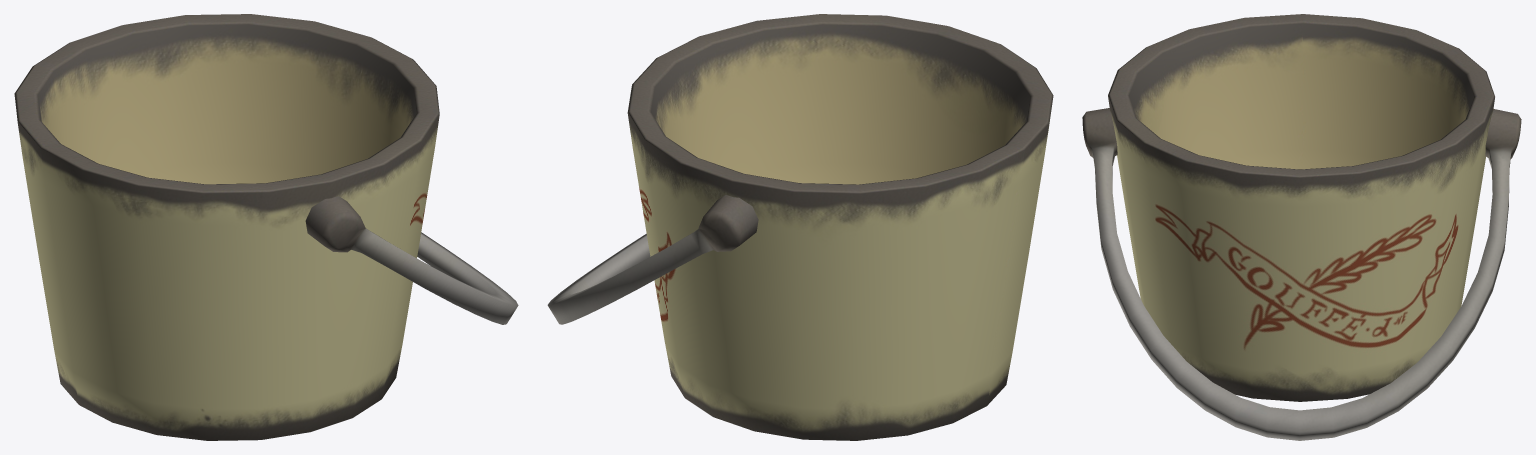
The model's file is balde_lechero_oxidado.glb.
The picture shows the model from 3 angles, left to right: view 1: azimuth 30°, elevation 25°; view 2: azimuth 150°, elevation 25°; view 3: azimuth 270°, elevation 25°; orthographic projection. The views are drawn at different scales.
Parts seen in each view (by area): view 1: Object_2; view 2: Object_2; view 3: Object_2.
Boxes of the visible parts, box(x1,y1,x2,y2) form: Object_2: box(14, 14, 518, 440); Object_2: box(547, 14, 1053, 440); Object_2: box(1082, 14, 1521, 440).
Bounding box in the file's own units: 3.35 × 1.93 × 3.13.
Materials: 1 (1 with a texture image).
